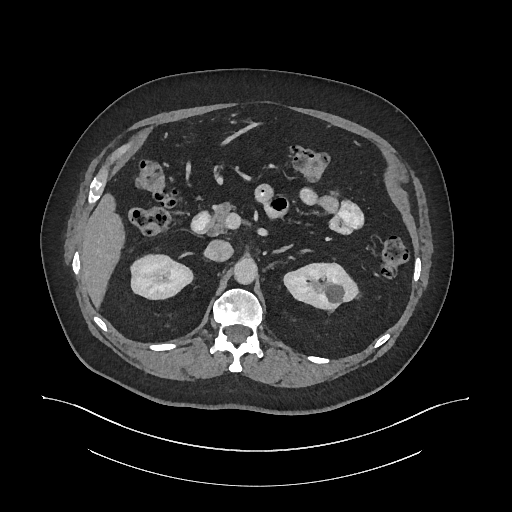Lesion: (319, 278, 348, 310)
